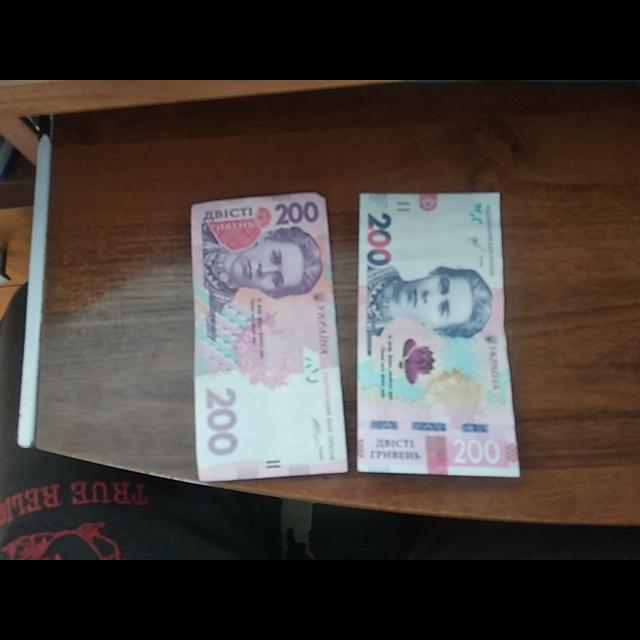200uah: (358, 193, 521, 476), (190, 197, 347, 481)
